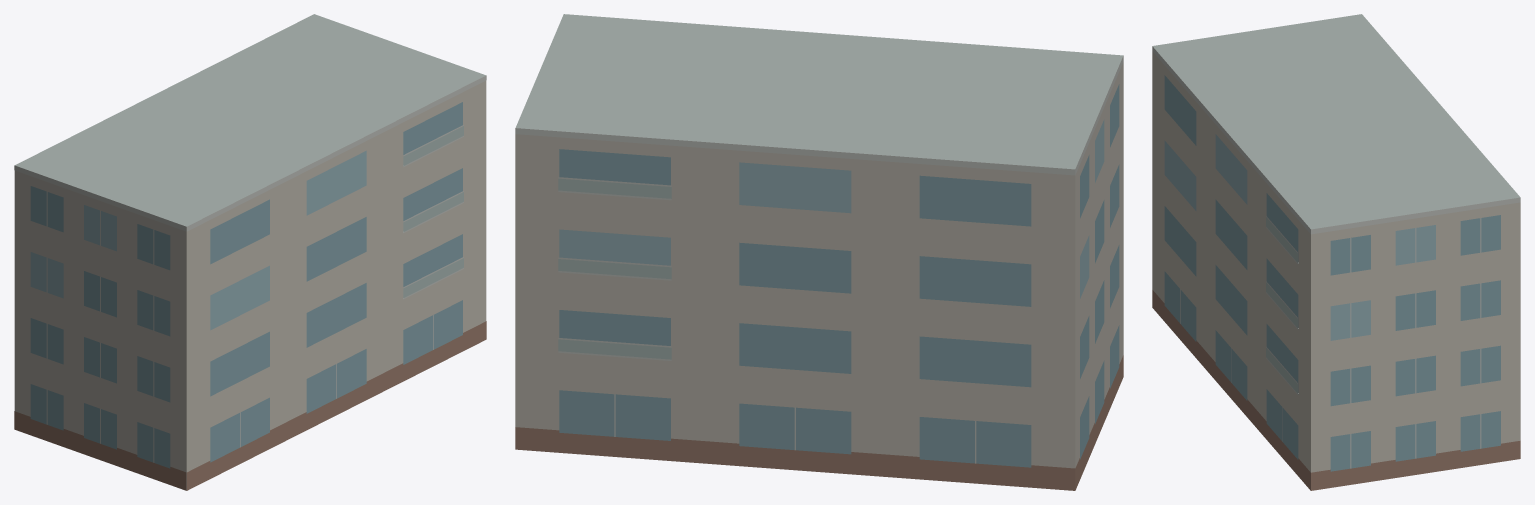
Rendered from survey-upis-32600816.glb.
3 renders of one model, left to right at view 1: azimuth 30°, elevation 25°; view 2: azimuth 150°, elevation 25°; view 3: azimuth 270°, elevation 25°, orthographic. The views are drawn at different scales.
Parts seen in each view (by area): view 1: survey-upis-32600816.tmp; view 2: survey-upis-32600816.tmp; view 3: survey-upis-32600816.tmp.
Part boxes in pixels (x1,y1,x2,y2): survey-upis-32600816.tmp: [14, 14, 486, 490]; survey-upis-32600816.tmp: [515, 14, 1123, 490]; survey-upis-32600816.tmp: [1152, 14, 1520, 490].
Bounding box in the file's own units: 22.79 × 12.89 × 16.47.
